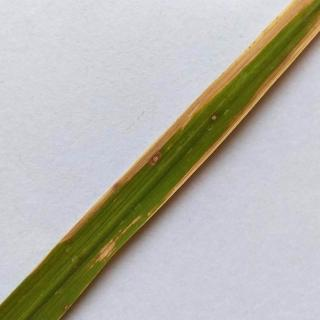Blast: (143, 150, 168, 168), (206, 112, 227, 130)
